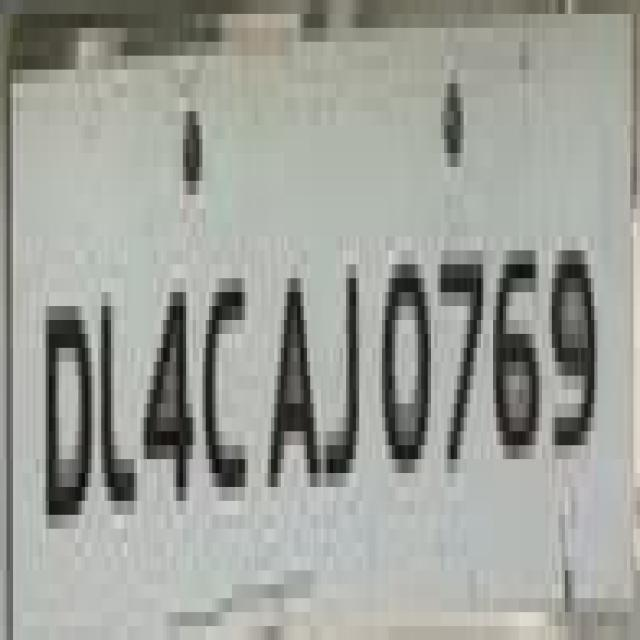plate: (4, 28, 608, 640)
